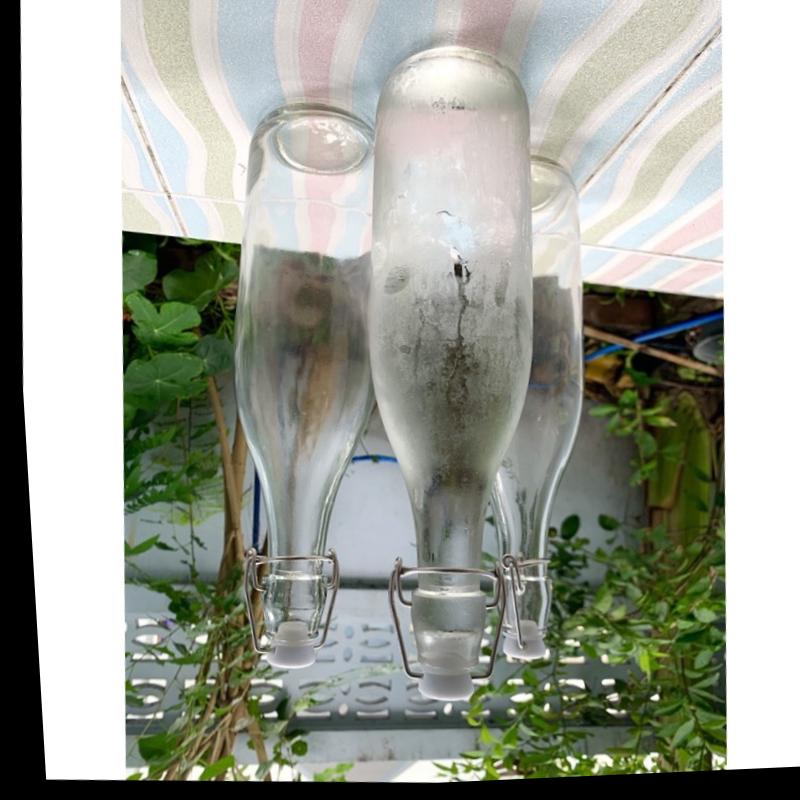glass: (328, 35, 572, 710), (199, 94, 411, 677), (462, 151, 616, 668)
